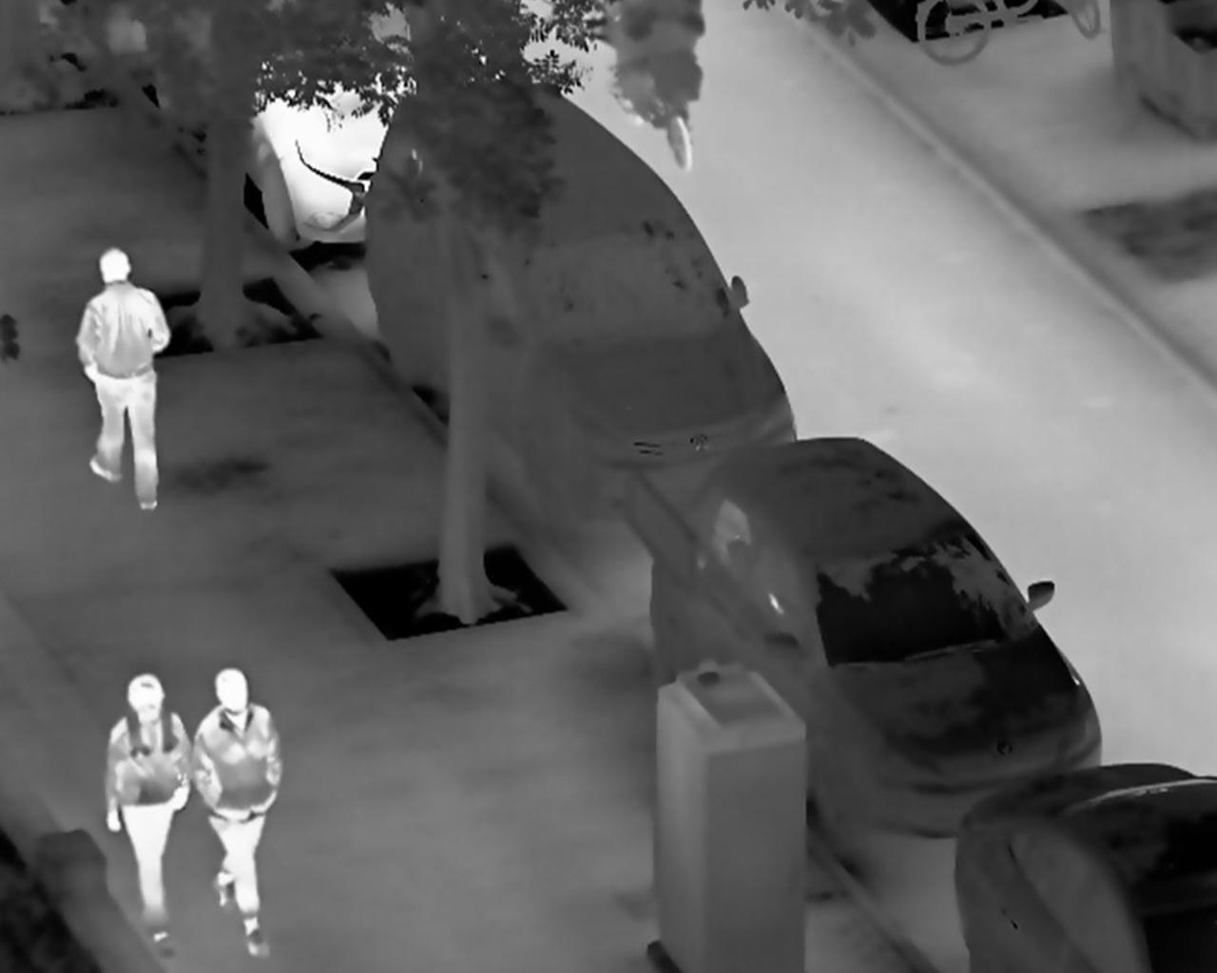person: (190, 664, 287, 959), (73, 244, 175, 513), (104, 672, 195, 961)
